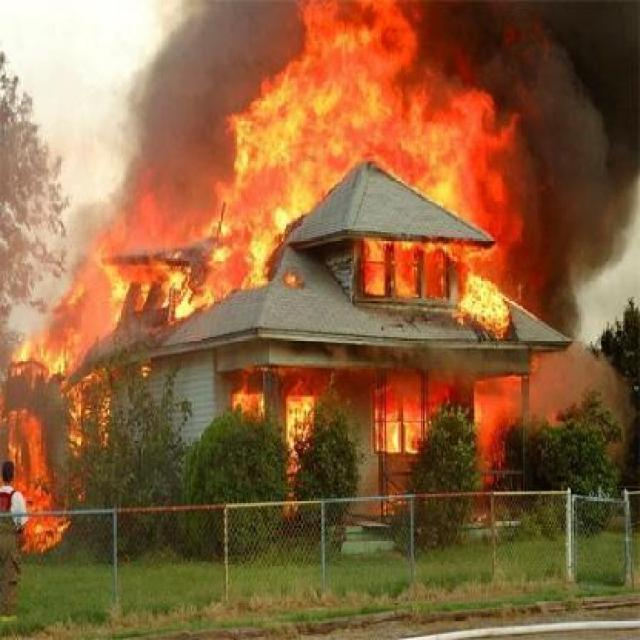Fire: (74, 50, 594, 524)
Smoke: (511, 22, 640, 238)
